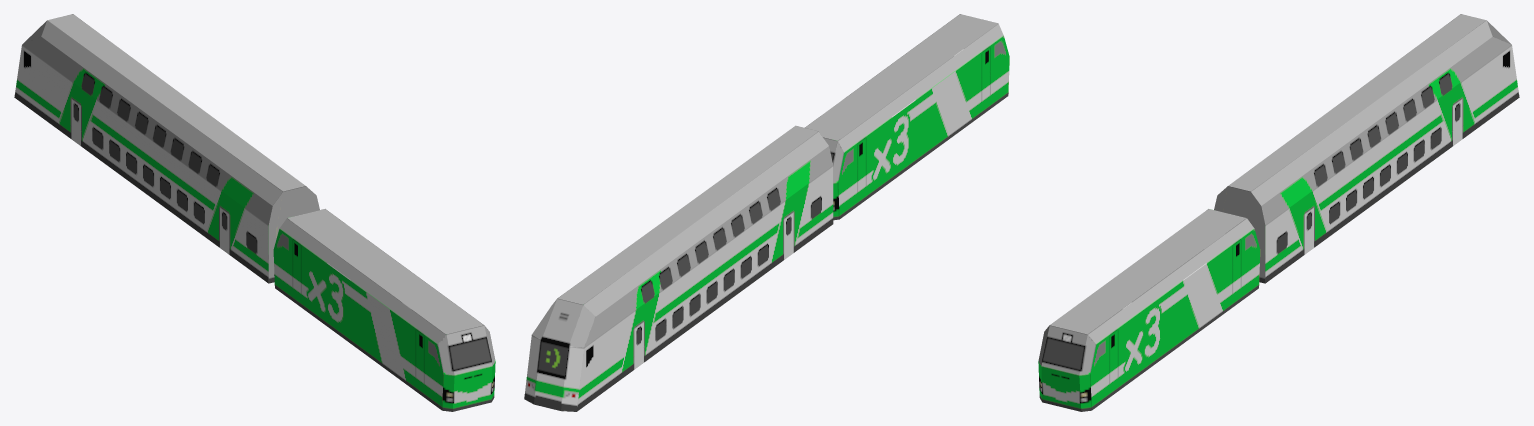
File: edo.obj
3 renders of one model, left to right at view 1: azimuth 30°, elevation 25°; view 2: azimuth 150°, elevation 25°; view 3: azimuth 330°, elevation 25°, orthographic.
Visible parts, largest first — view 1: cuboid; view 2: cuboid; view 3: cuboid.
Part boxes in pixels (<box>): cuboid: <box>14,14,495,411</box>; cuboid: <box>524,14,1009,411</box>; cuboid: <box>1038,14,1519,411</box>.
Size of the model in its own units: 2 by 3.25 by 29.03.
1 material, 1 textured.
